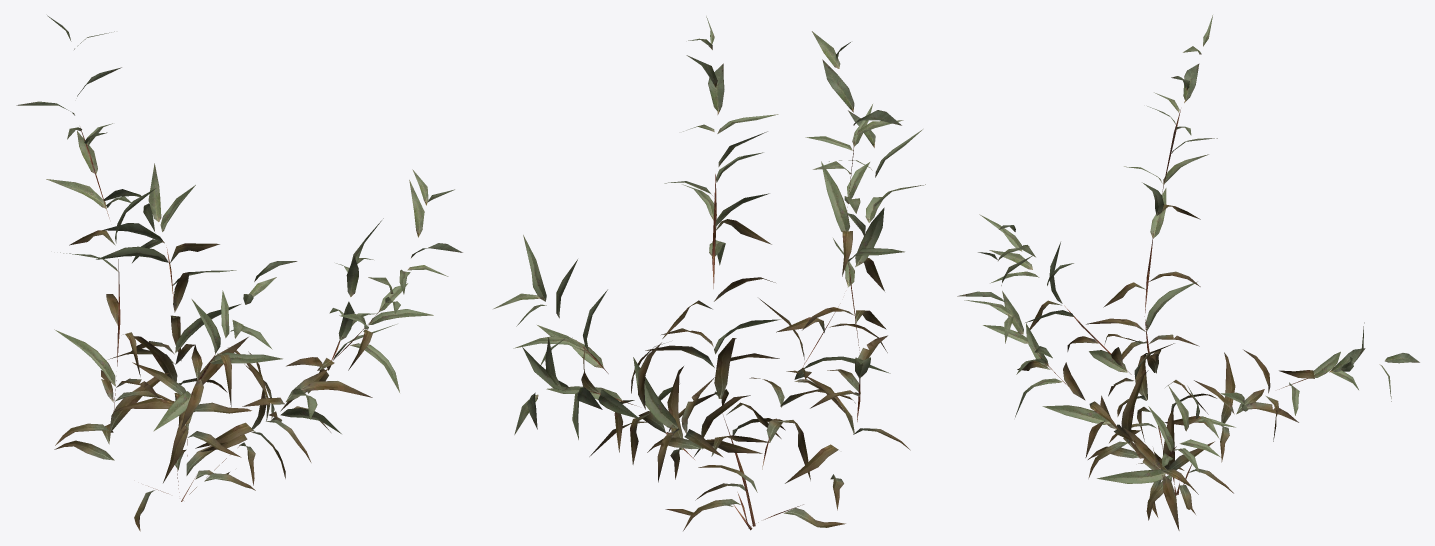
The model's file is shrub2.glb.
3 renders of one model, left to right at view 1: azimuth 30°, elevation 25°; view 2: azimuth 150°, elevation 25°; view 3: azimuth 270°, elevation 25°, orthographic. The views are drawn at different scales.
Parts seen in each view (by area): view 1: shrub_02_a; view 2: shrub_02_a; view 3: shrub_02_a.
Boxes of the visible parts, <box> form: shrub_02_a: <box>16,15,462,531</box>; shrub_02_a: <box>493,16,925,530</box>; shrub_02_a: <box>957,15,1419,530</box>.
Bounding box in the file's own units: 1.31 × 1.69 × 1.64.
1 material, 1 textured.
